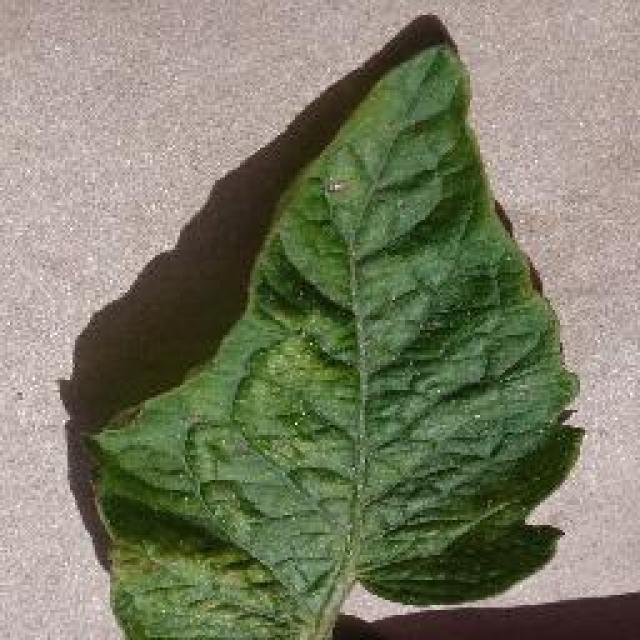Tomato mosaic virus leaf: (77, 37, 582, 640)
